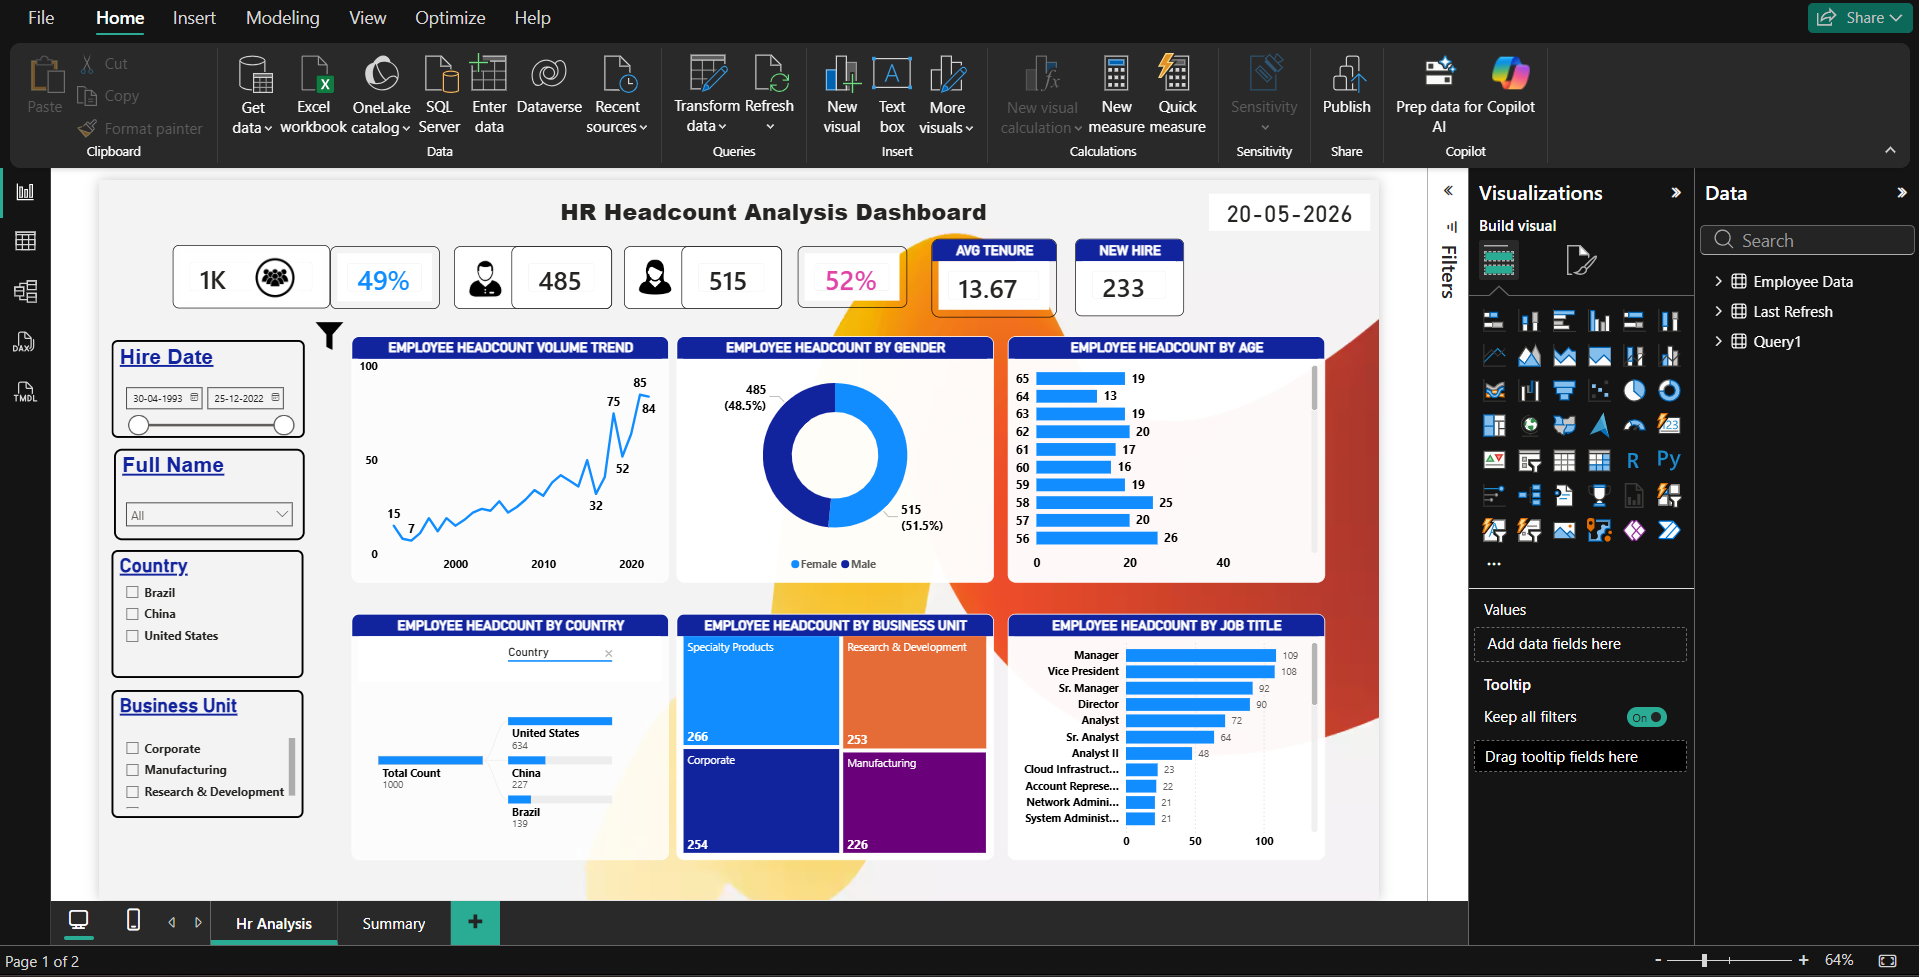

The dashboard page shown, as its layout file describes it:
{"tool":"powerbi","page":{"name":"Hr Analysis","canvas":[1600,900],"ordinal":0},"visuals":[{"type":"cardVisual","fields":{"Data":["Employee Data.Total_Count"]},"box":[91.9,80.6,196.8,79],"z":0},{"type":"image","box":[180.6,93.5,77.4,56.5],"z":1000},{"type":"lineChart","title":"EMPLOYEE HEADCOUNT VOLUME TREND","fields":{"Category":["Employee Data.Hire Date.Variation.Date Hierarchy.Year"],"Y":["CountNonNull(Employee Data.Employee ID)"]},"box":[316.1,195.2,396.8,308.1],"z":2000},{"type":"donutChart","title":"EMPLOYEE HEADCOUNT  BY GENDER","fields":{"Category":["Employee Data.Gender"],"Y":["CountNonNull(Employee Data.Employee ID)"]},"box":[722.6,195.2,396.8,308.1],"z":3000},{"type":"clusteredBarChart","title":"EMPLOYEE HEADCOUNT  BY  AGE","fields":{"Category":["Employee Data.Age"],"Y":["CountNonNull(Employee Data.Employee ID)"]},"box":[1135.5,195.2,396.8,308.1],"z":4000},{"type":"decompositionTreeVisual","title":"EMPLOYEE HEADCOUNT  BY COUNTRY","fields":{"Analyze":["CountNonNull(Employee Data.Country)"],"ExplainBy":["Employee Data.Country"]},"box":[316.1,541.9,396.8,308.1],"z":5000},{"type":"treemap","title":"EMPLOYEE HEADCOUNT  BY BUSINESS UNIT","fields":{"Group":["Employee Data.Business Unit"],"Values":["CountNonNull(Employee Data.Employee ID)"]},"box":[722.6,541.9,396.8,308.1],"z":6000},{"type":"clusteredBarChart","title":"EMPLOYEE HEADCOUNT  BY JOB TITLE","fields":{"Category":["Employee Data.Job Title"],"Y":["CountNonNull(Employee Data.Employee ID)"]},"box":[1135.5,541.9,396.8,308.1],"z":7000},{"type":"shape","box":[443.2,82.4,197.3,78.4],"z":8000},{"type":"image","box":[443.2,91.9,78.4,62.2],"z":9000},{"type":"cardVisual","fields":{"Data":["Employee Data.Total_Male_Headcount"]},"box":[514.9,82.4,125.7,78.4],"z":10000},{"type":"shape","box":[656.8,82.4,197.3,78.4],"z":11000},{"type":"cardVisual","fields":{"Data":["Employee Data.Total_Female_Headcount"]},"box":[728.4,82.4,125.7,78.4],"z":12000},{"type":"image","box":[668.9,90.5,52.7,60.8],"z":13000},{"type":"cardVisual","fields":{"Data":["Employee Data.Male%"]},"box":[289.2,82.4,136.5,78.4],"z":14000},{"type":"cardVisual","fields":{"Data":["Employee Data.Female%"]},"box":[873,82.4,136.5,77],"z":15000},{"type":"shape","title":"HR Headcount Analysis Dashboard","box":[577,18,737.7,60.7],"z":16000},{"type":"slicer","title":"Business Unit","fields":{"Values":["Employee Data.Business Unit"]},"box":[16.1,637.1,240.3,159.7],"z":17000},{"type":"slicer","title":"Country","fields":{"Values":["Employee Data.Country"]},"box":[16.1,462.9,240.3,159.7],"z":18000},{"type":"slicer","title":"Full Name","fields":{"Values":["Employee Data.Full Name"]},"box":[19.4,335.5,238.7,114.5],"z":19000},{"type":"slicer","title":"Hire Date ","fields":{"Values":["Employee Data.Hire Date"]},"box":[16.1,200,241.9,122.6],"z":20000},{"type":"card","fields":{"Values":["Min(Query1.Last Refresh)"]},"box":[1388.1,17.9,201.5,46.3],"z":21000},{"type":"image","box":[264.5,172.6,48.4,46.8],"z":22000},{"type":"cardVisual","title":"AVG TENURE","fields":{"Data":["Employee Data.Avg Tenure (Years)"]},"box":[1040.3,73.1,156.7,98.5],"z":23000},{"type":"cardVisual","title":"NEW HIRE","fields":{"Data":["Employee Data.New Hires (365 Days)"]},"box":[1220.9,73.1,135.8,97],"z":24000}]}

Visuals, with their boxes on the page's 1600x900 design canvas (x1, y1, x2, y2). These are canvas units, not pixel positions in the 1919x977 screenshot, which may show the page scaled, cropped or inside an application window:
cardVisual - Employee Data.Total_Count: <region>92, 81, 289, 160</region>
image: <region>181, 94, 258, 150</region>
"EMPLOYEE HEADCOUNT VOLUME TREND" lineChart: <region>316, 195, 713, 503</region>
"EMPLOYEE HEADCOUNT  BY GENDER" donutChart: <region>723, 195, 1119, 503</region>
"EMPLOYEE HEADCOUNT  BY  AGE" clusteredBarChart: <region>1136, 195, 1532, 503</region>
"EMPLOYEE HEADCOUNT  BY COUNTRY" decompositionTreeVisual: <region>316, 542, 713, 850</region>
"EMPLOYEE HEADCOUNT  BY BUSINESS UNIT" treemap: <region>723, 542, 1119, 850</region>
"EMPLOYEE HEADCOUNT  BY JOB TITLE" clusteredBarChart: <region>1136, 542, 1532, 850</region>
shape: <region>443, 82, 640, 161</region>
image: <region>443, 92, 522, 154</region>
cardVisual - Employee Data.Total_Male_Headcount: <region>515, 82, 641, 161</region>
shape: <region>657, 82, 854, 161</region>
cardVisual - Employee Data.Total_Female_Headcount: <region>728, 82, 854, 161</region>
image: <region>669, 90, 722, 151</region>
cardVisual - Employee Data.Male%: <region>289, 82, 426, 161</region>
cardVisual - Employee Data.Female%: <region>873, 82, 1010, 159</region>
"HR Headcount Analysis Dashboard" shape: <region>577, 18, 1315, 79</region>
"Business Unit" slicer: <region>16, 637, 256, 797</region>
"Country" slicer: <region>16, 463, 256, 623</region>
"Full Name" slicer: <region>19, 336, 258, 450</region>
"Hire Date " slicer: <region>16, 200, 258, 323</region>
card - Min(Query1.Last Refresh): <region>1388, 18, 1590, 64</region>
image: <region>264, 173, 313, 219</region>
"AVG TENURE" cardVisual: <region>1040, 73, 1197, 172</region>
"NEW HIRE" cardVisual: <region>1221, 73, 1357, 170</region>
